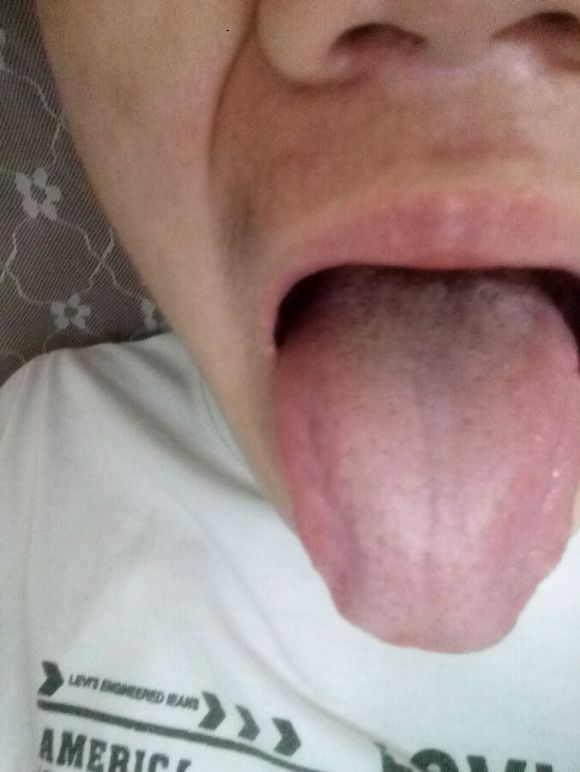baitaishe: (274, 264, 579, 653)
